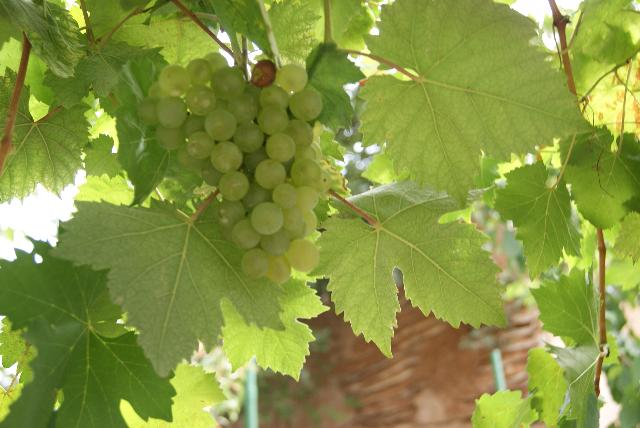grapes: (138, 52, 330, 284)
